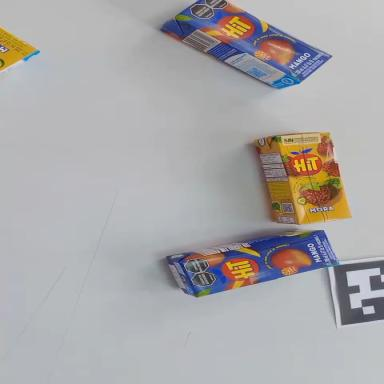HIT-MANGO: (160, 0, 332, 107), (166, 221, 339, 302)
HIT-MORA: (255, 122, 351, 235), (0, 28, 39, 74)
cara_F: (174, 0, 333, 92), (182, 228, 341, 299), (275, 123, 352, 230), (0, 27, 37, 73)
